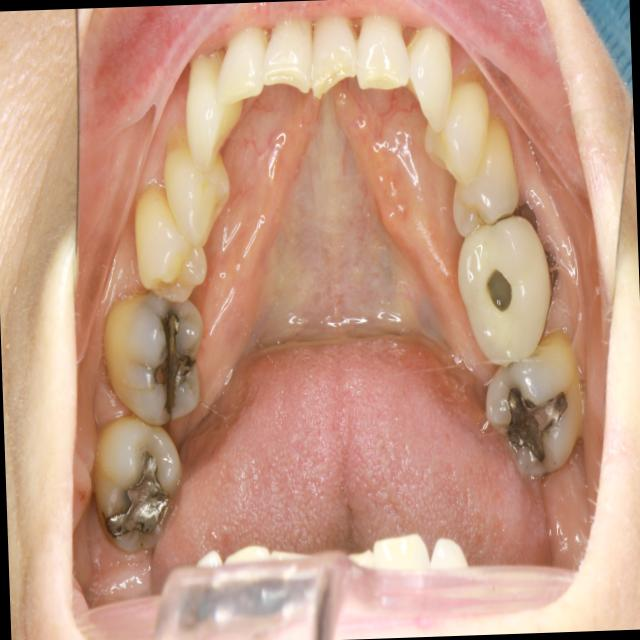tooth: (87, 273, 216, 434), (471, 329, 596, 490), (449, 208, 559, 373), (86, 408, 190, 559), (127, 174, 216, 309), (442, 106, 526, 243), (159, 117, 240, 251), (177, 41, 251, 177), (417, 74, 499, 188), (397, 10, 458, 137), (305, 2, 364, 107), (353, 2, 414, 102), (257, 10, 316, 101), (211, 28, 277, 107)
